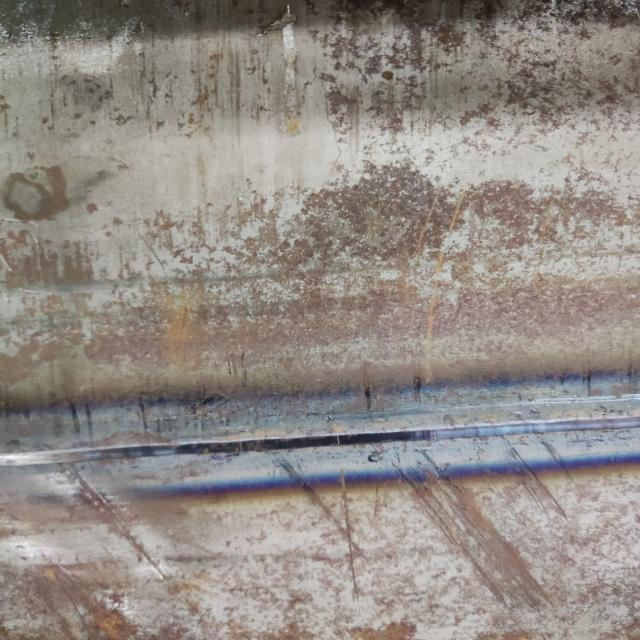seam: (0, 356, 640, 519)
